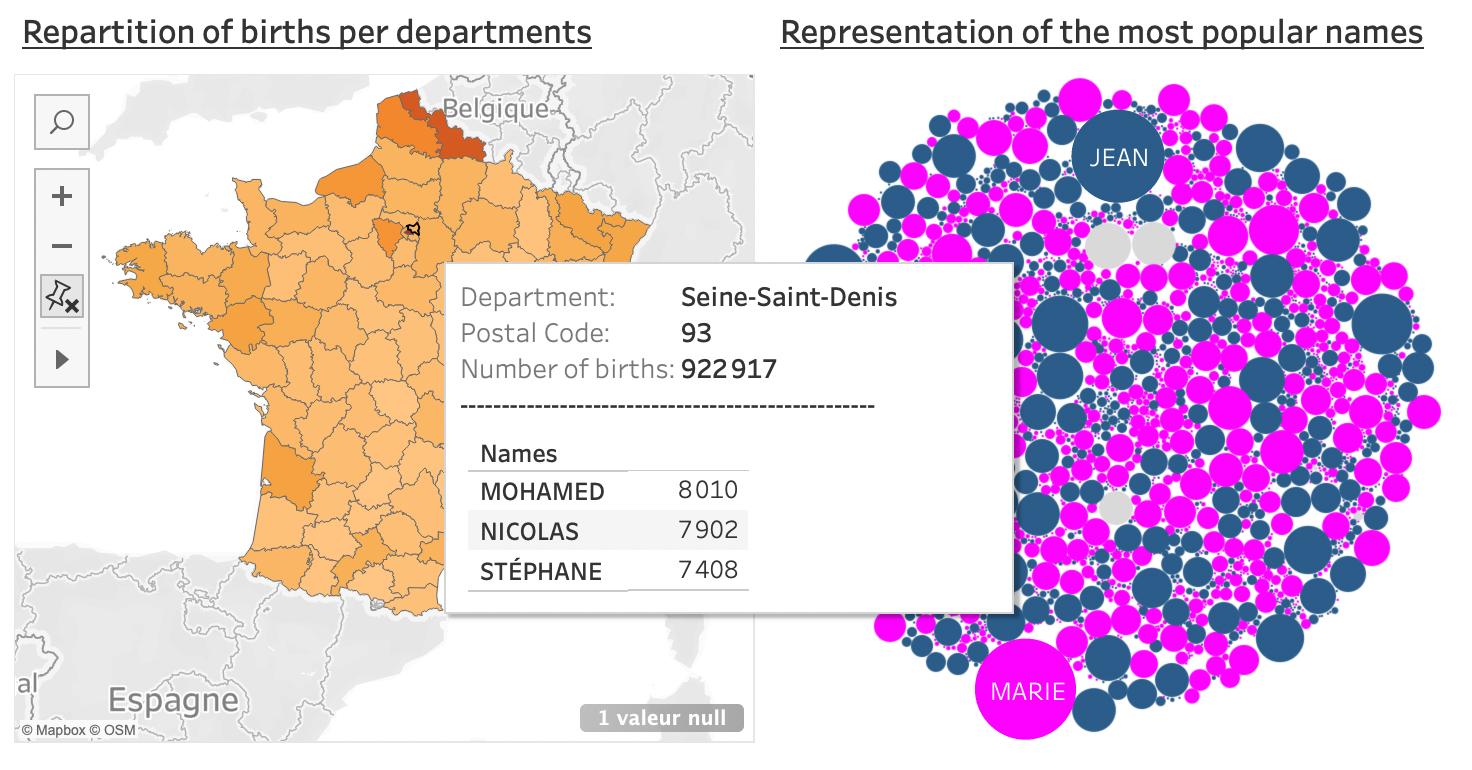

The dashboard page shown, as its layout file describes it:
{"tool":"tableau","page":{"name":"Question2","canvas":[1000,800],"ordinal":1},"visuals":[{"type":"worksheet","title":"Map France","mark":"Automatic","box":[8,8,421,784]},{"type":"legend","title":"Map France","param":"[federated.1gvausr021ll4w0zwiqct1gzo1lz].[sum:nombre:qk]","box":[429,8,281,72]},{"type":"filter","title":"Map France","param":"[federated.1gvausr021ll4w0zwiqct1gzo1lz].[none:nom:nk]","box":[710,8,282,72]},{"type":"legend","title":"Birth number","param":"[federated.1gvausr021ll4w0zwiqct1gzo1lz].[avg:sexe:qk]","box":[429,80,281.5,66]},{"type":"filter","title":"Map France","param":"[federated.1gvausr021ll4w0zwiqct1gzo1lz].[Action (Preusuel)]","box":[710.5,80,281.5,66]},{"type":"worksheet","title":"Birth number","mark":"Circle","box":[429,146,563,646]}]}

Visuals, with their boxes on the page's 1000x800 design canvas (x1, y1, x2, y2). These are canvas units, not pixel positions in the 1472x770 screenshot, which may show the page scaled, cropped or inside an application window:
"Map France" worksheet: 8/8/429/792
"Map France" legend: 429/8/710/80
"Map France" filter: 710/8/992/80
"Birth number" legend: 429/80/710/146
"Map France" filter: 710/80/992/146
"Birth number" worksheet (Circle marks): 429/146/992/792
